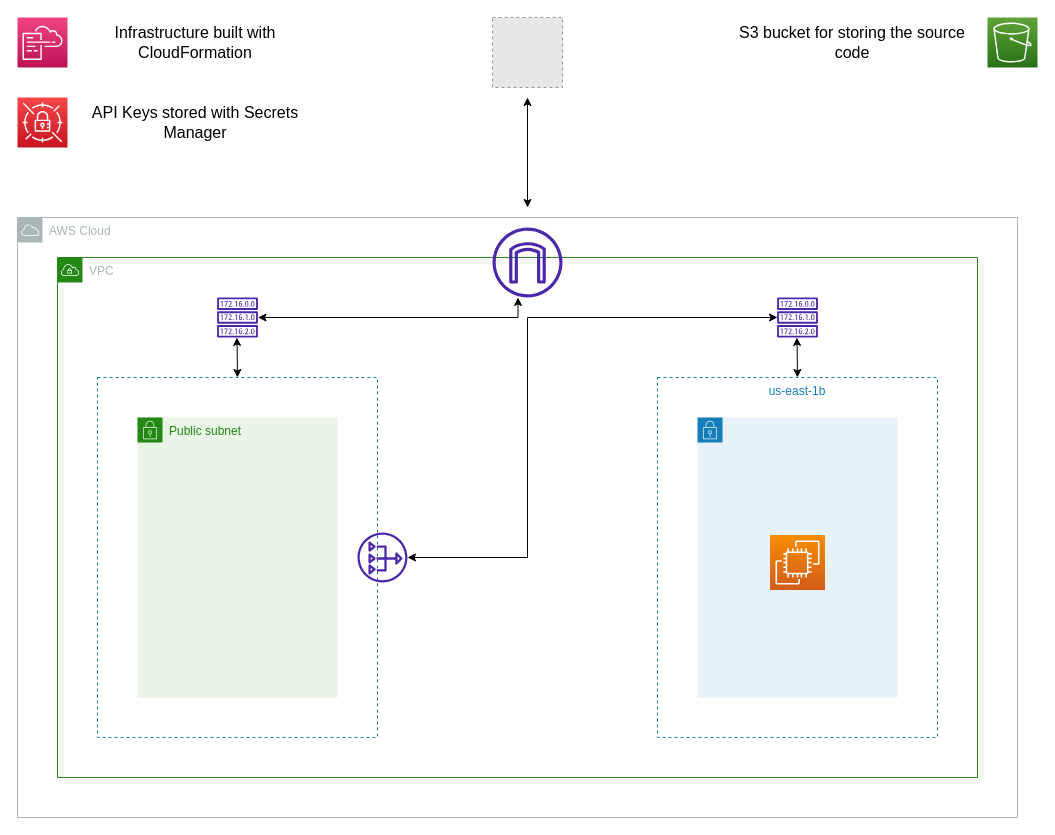
Some shapes in this 1055 by 835 pixel diagram are drawn without their labels. Grey dashed boxes stand in for pictures. Each missing label, with the box of its shape:
Private subnet: (696, 416, 898, 698)
us-east-1a: (96, 376, 378, 738)
